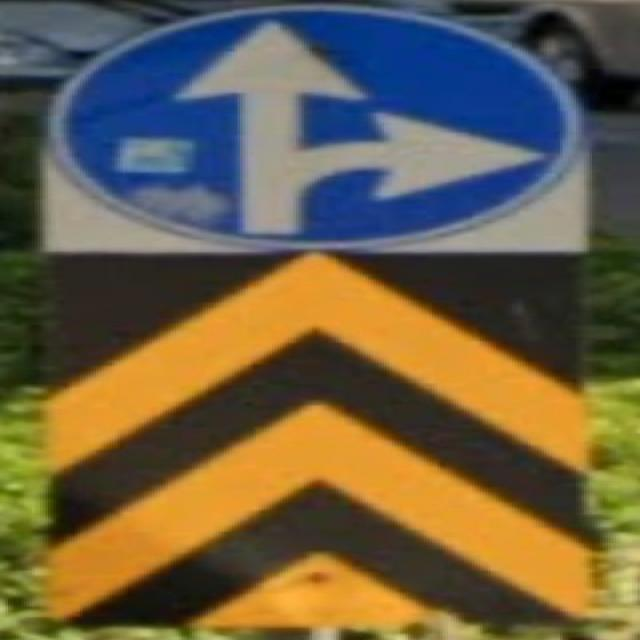Straight or Right: (49, 5, 572, 245)
